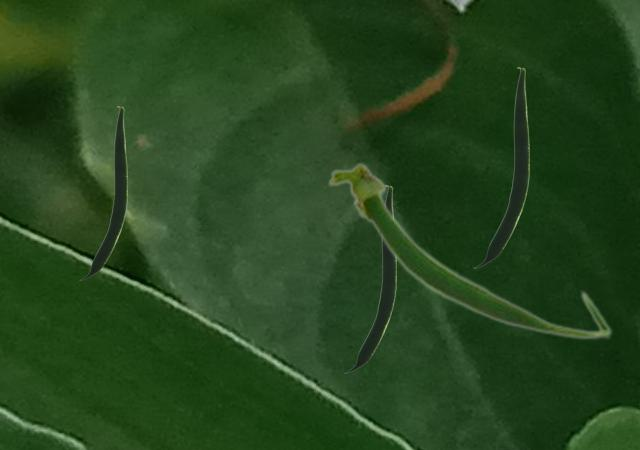french_bean: (326, 160, 612, 340), (473, 67, 528, 267), (344, 185, 395, 372), (79, 106, 126, 279)
